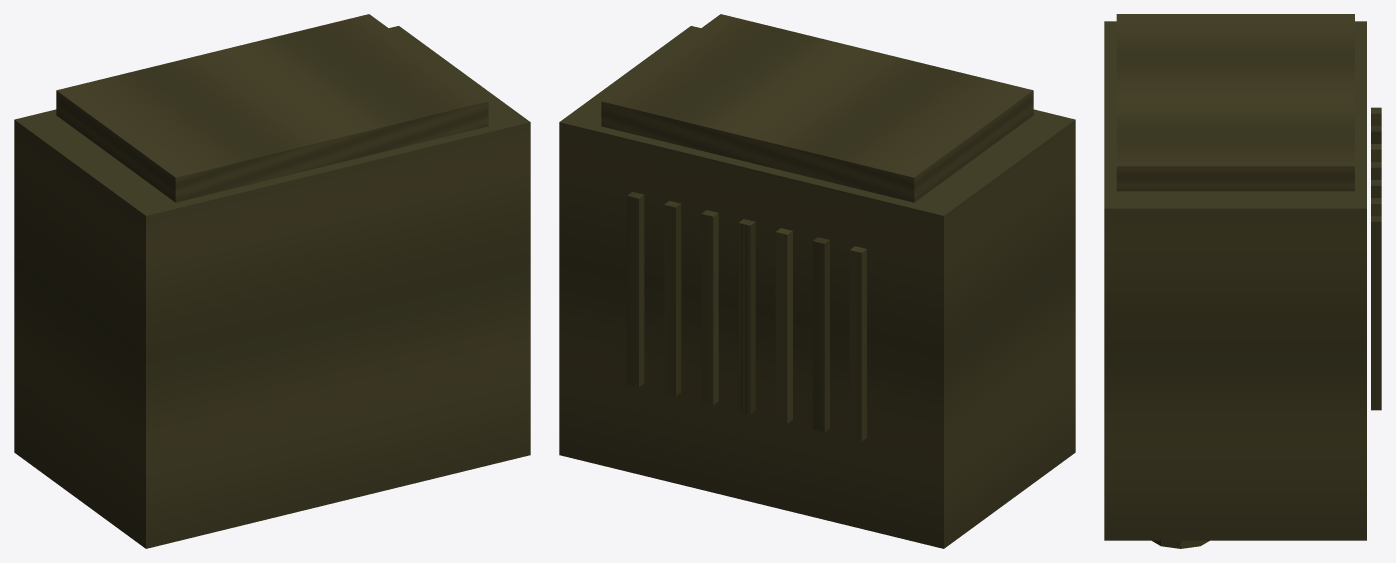
Rendered from prop_generator_field_small_a.glb.
3 views of the same model, side by side, from view 1: azimuth 30°, elevation 25°; view 2: azimuth 150°, elevation 25°; view 3: azimuth 270°, elevation 25° (orthographic).
Visible parts, largest first — view 1: prop_generator_field_small_a; view 2: prop_generator_field_small_a; view 3: prop_generator_field_small_a.
Boxes of the visible parts, bbox=[...] form: prop_generator_field_small_a: bbox=[14, 14, 530, 548]; prop_generator_field_small_a: bbox=[559, 14, 1075, 548]; prop_generator_field_small_a: bbox=[1104, 14, 1381, 548].
Bounding box in the file's own units: 1.45 × 1.35 × 0.9075.
Materials: 1 (1 with a texture image).
